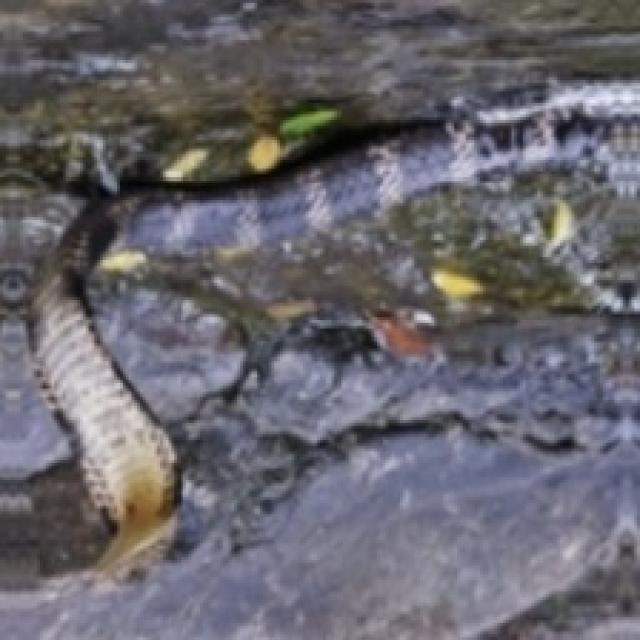king cobra: (0, 80, 637, 637)
